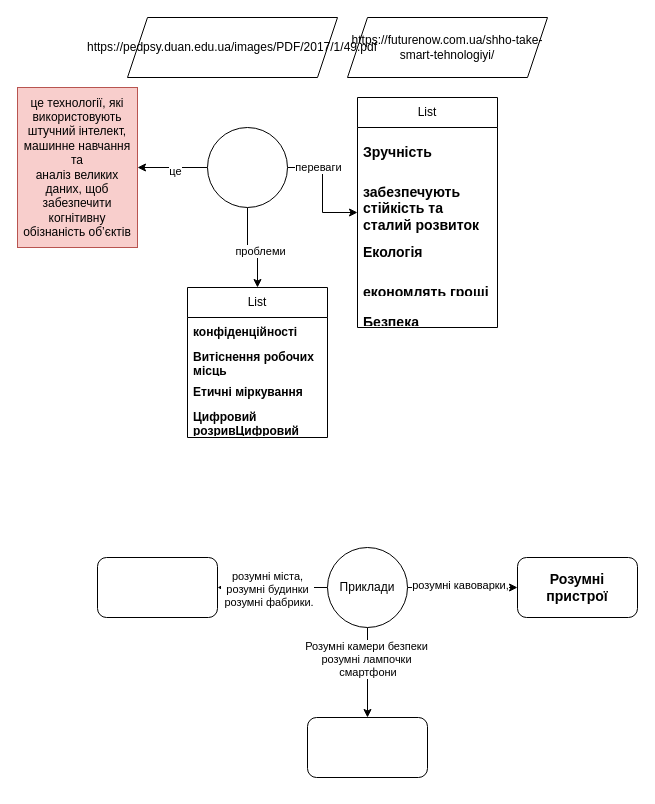
Some shapes in this 655 by 804 pixel diagram are drawn without their labels. The shapes that lost their labels are listed below. From the top down, each one's centre as x and y in pixels, then its label:
(247,167): смарт-технології
(157,587): Пристрої Інтернету речей (IoT)
(367,747): Розумні підключені пристрої
